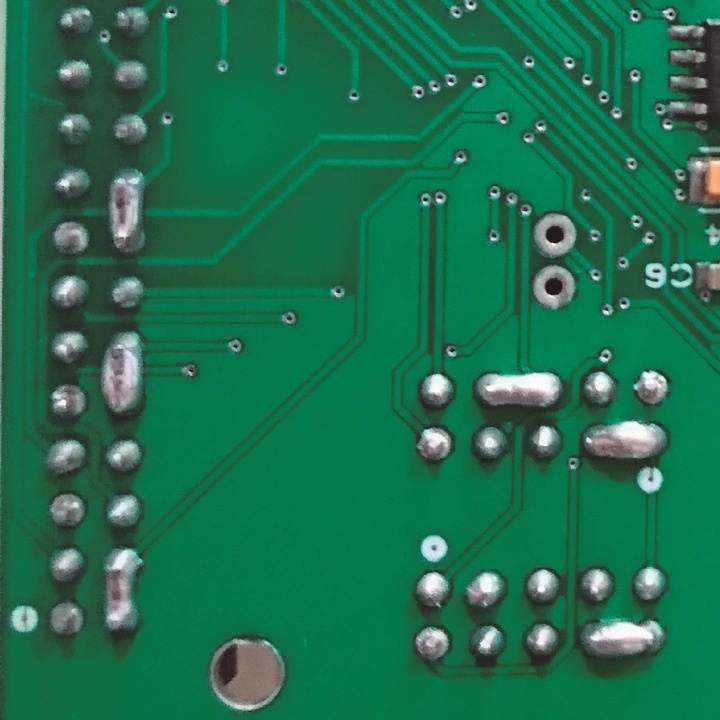F: (532, 261, 579, 311), (533, 212, 579, 259), (46, 382, 88, 423), (47, 599, 88, 640), (50, 218, 91, 259), (415, 623, 455, 665), (634, 368, 672, 409), (45, 491, 87, 527), (417, 426, 454, 463)
P: (97, 547, 148, 638), (99, 331, 148, 418), (103, 166, 150, 255), (473, 370, 565, 412), (576, 617, 663, 661), (583, 421, 668, 466)
